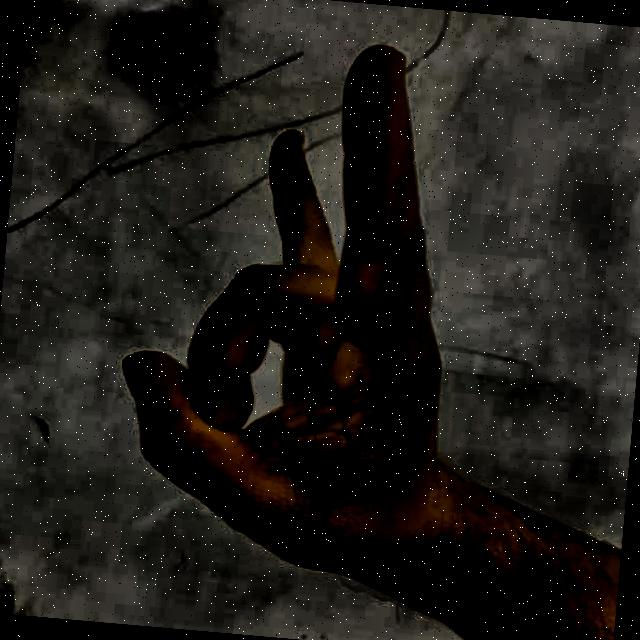Cha: (75, 10, 561, 640)
